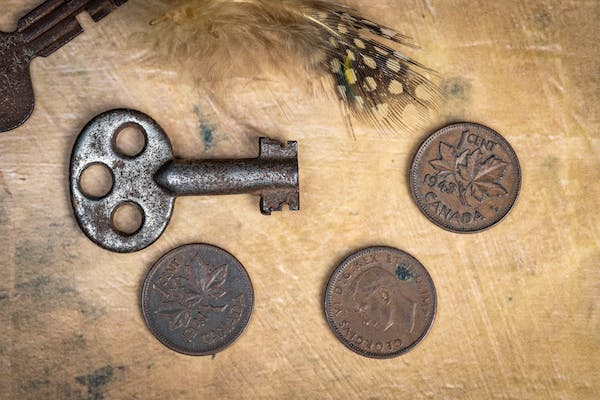key: (66, 106, 304, 255)
